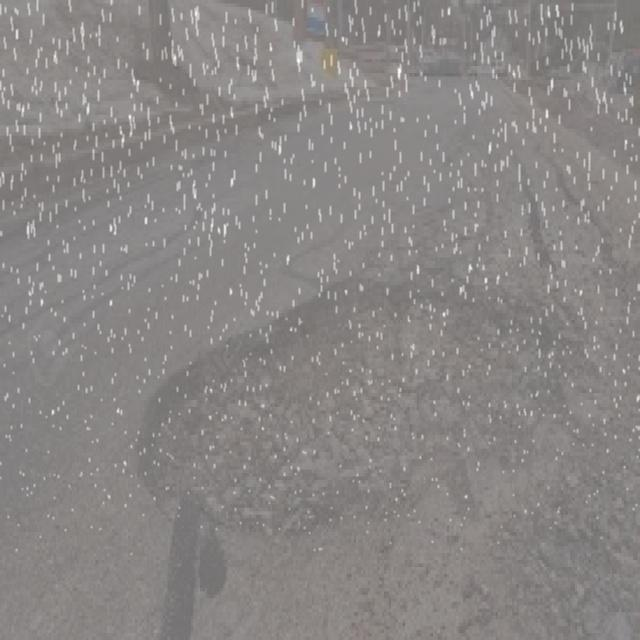Pothole: (108, 253, 551, 550)
